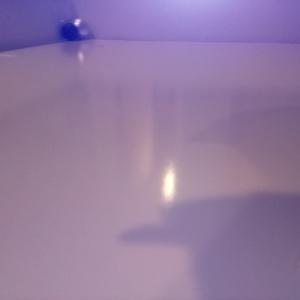alive_ball: (73, 18, 89, 38)
dead_ball: (61, 22, 78, 41)
